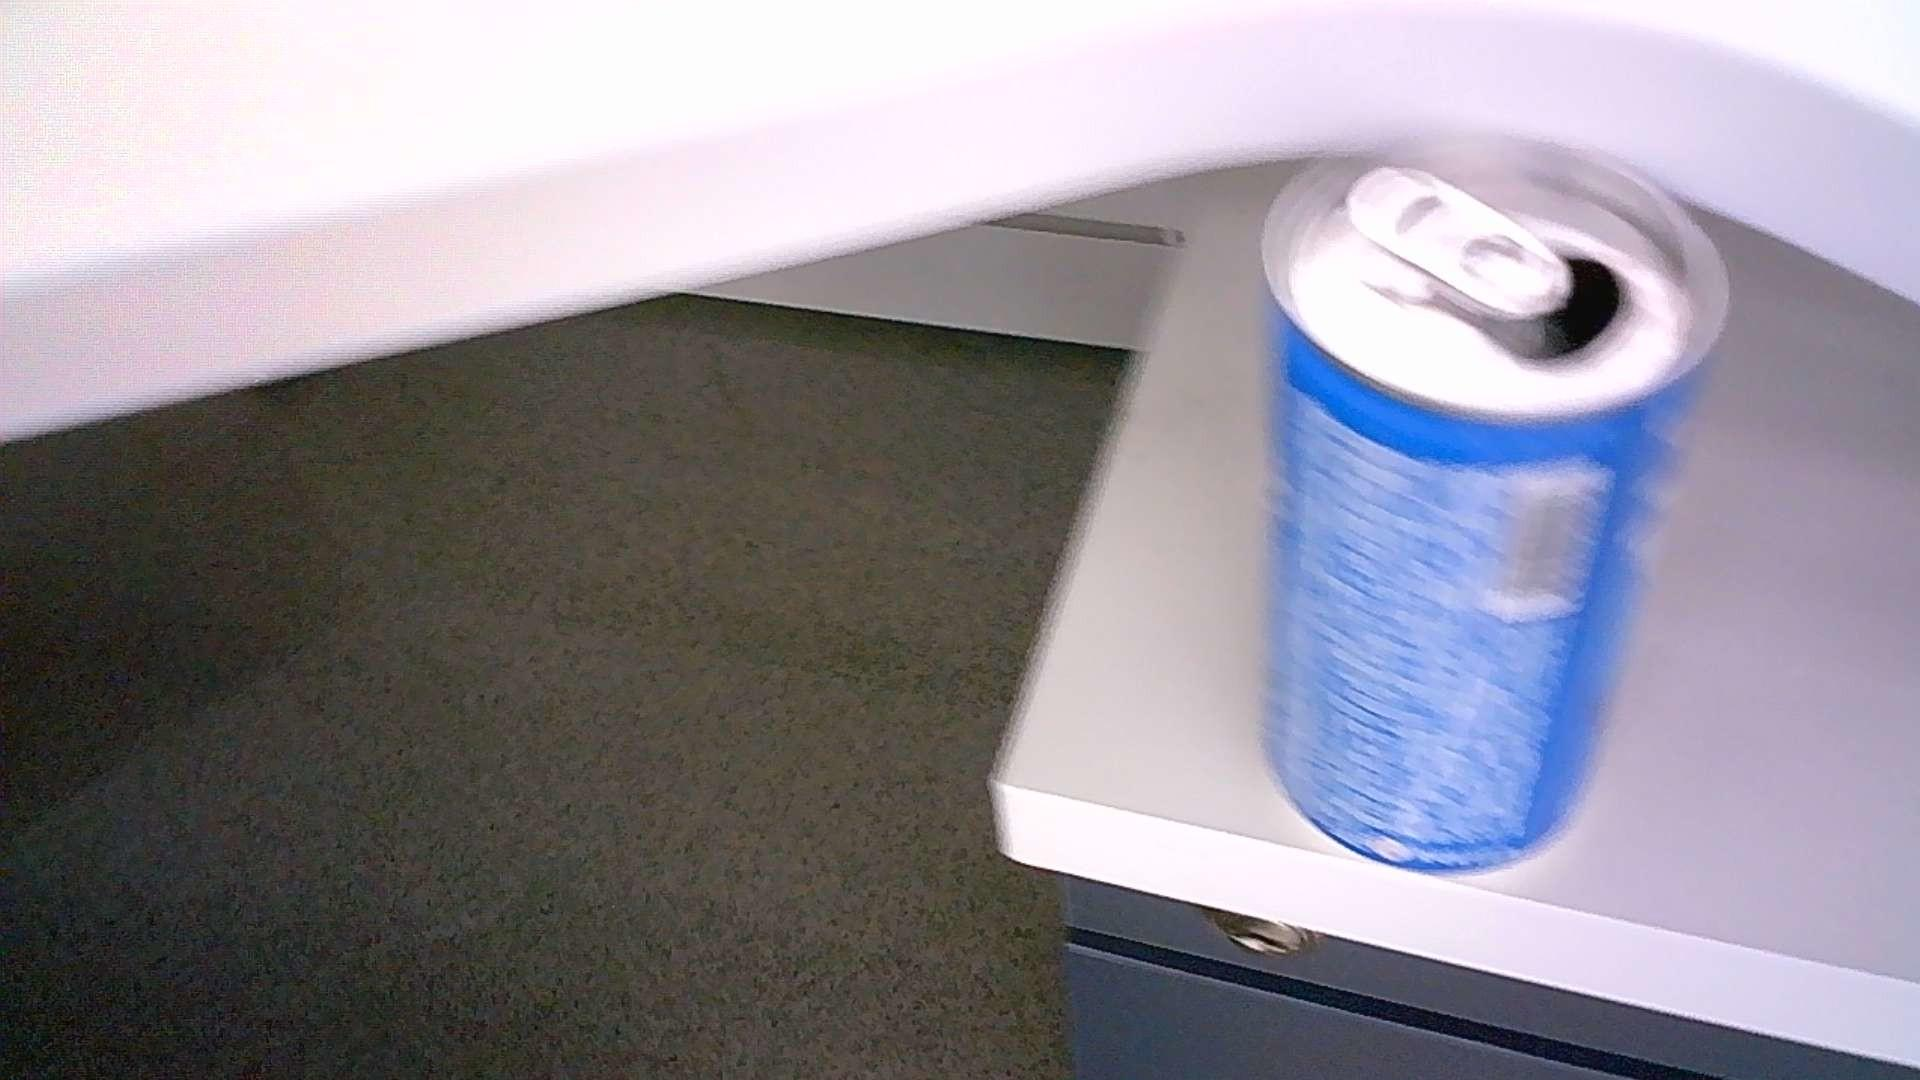letsbe: (1259, 125, 1733, 873)
